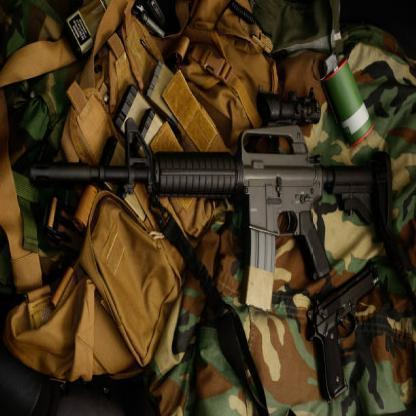Grenade: (312, 50, 375, 150)
Gun: (28, 88, 394, 313)
Pistol: (305, 261, 381, 403)
